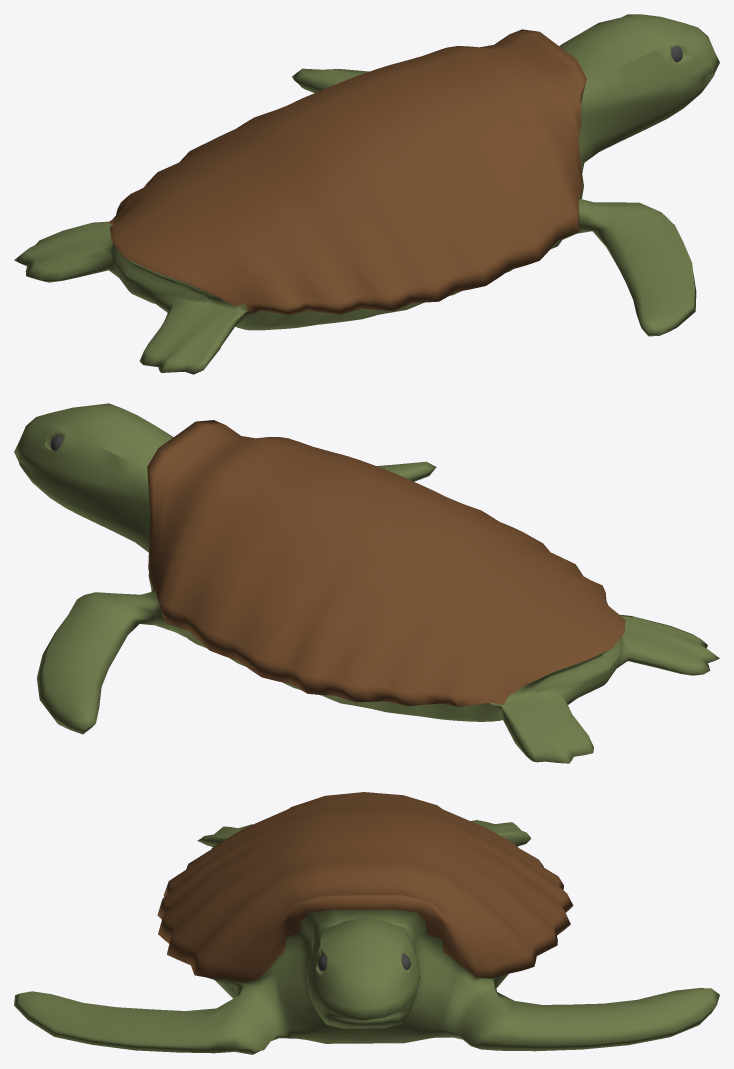
The model's file is turtle-final.fbx.
The picture shows the model from 3 angles, top to bottom: view 1: azimuth 30°, elevation 25°; view 2: azimuth 150°, elevation 25°; view 3: azimuth 270°, elevation 25°; orthographic projection.
Parts seen in each view (by area): view 1: pSphere2; view 2: pSphere2; view 3: pSphere2.
Part boxes in pixels (x1,y1,x2,y2): pSphere2: [14, 14, 719, 374]; pSphere2: [14, 403, 719, 763]; pSphere2: [14, 792, 719, 1054].
Bounding box in the file's own units: 97.19 × 29.3 × 94.41.
